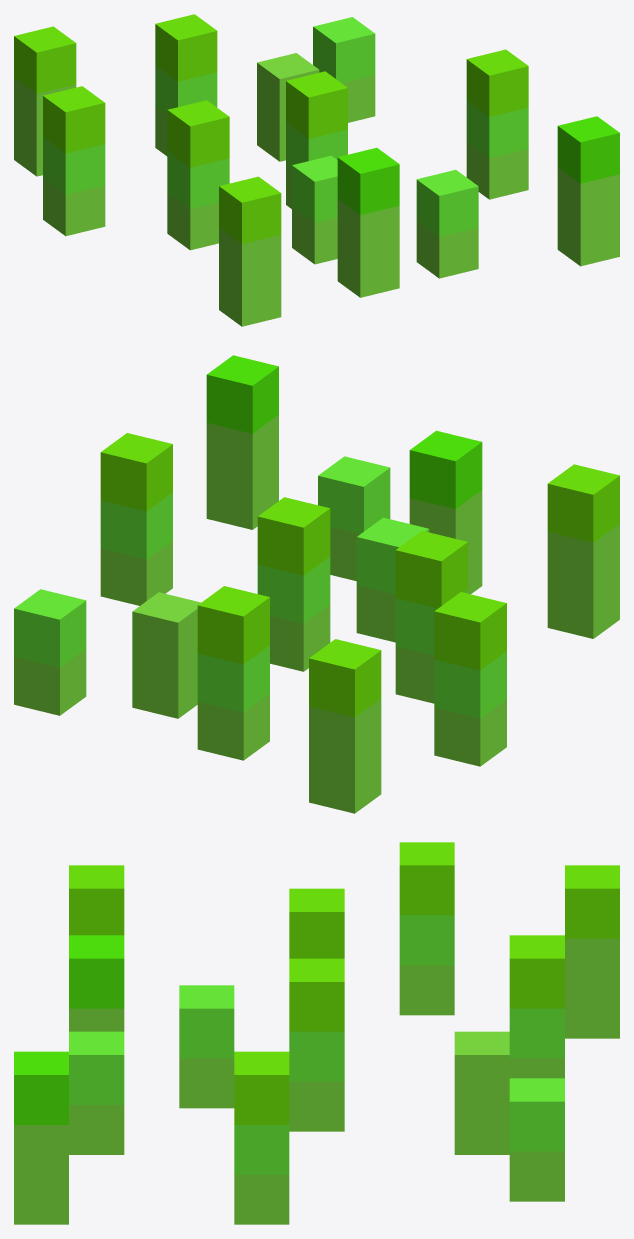
The model's file is Grass3.obj.
The picture shows the model from 3 angles, top to bottom: view 1: azimuth 30°, elevation 25°; view 2: azimuth 150°, elevation 25°; view 3: azimuth 270°, elevation 25°; orthographic projection. The views are drawn at different scales.
Size of the model in its own units: 1 by 0.3 by 1.1.
1 material, 1 textured.
